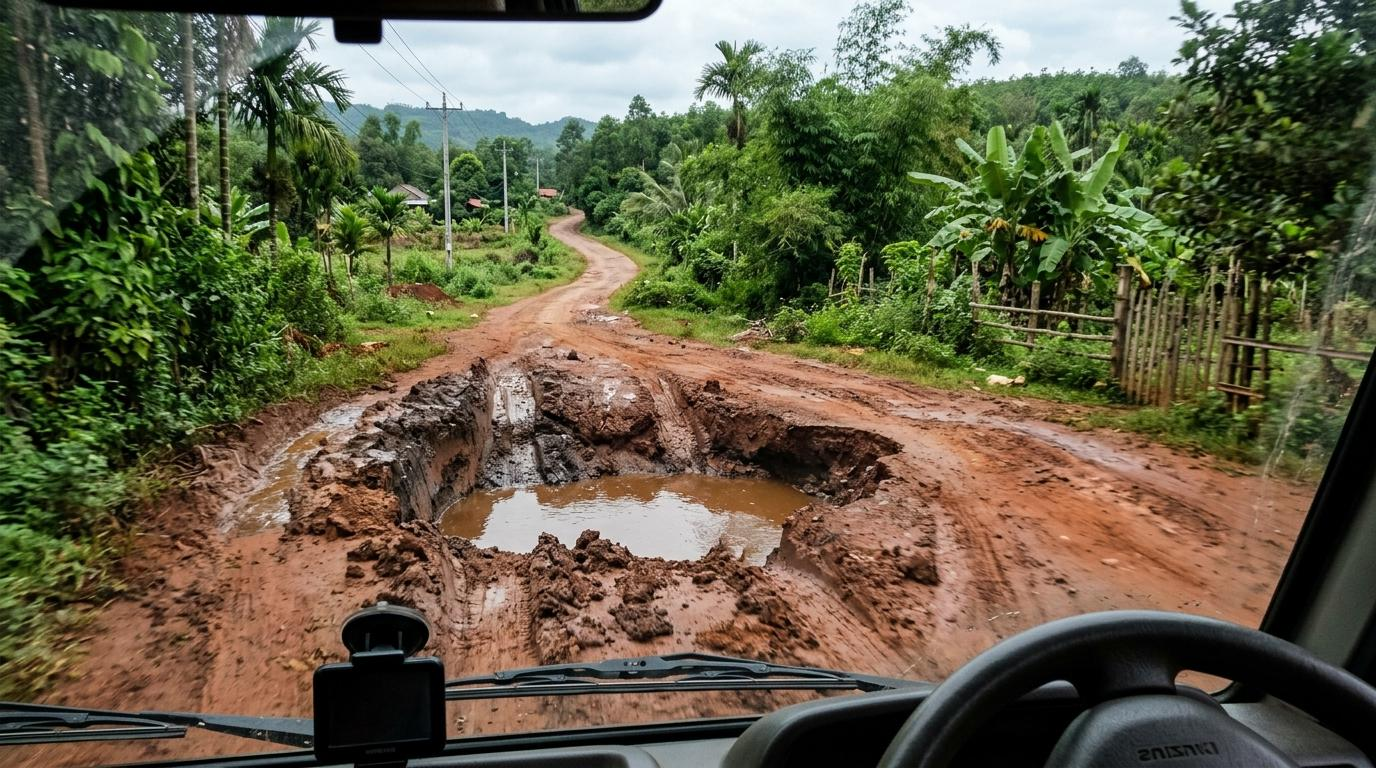POTHOLE: (420, 388, 970, 618)
